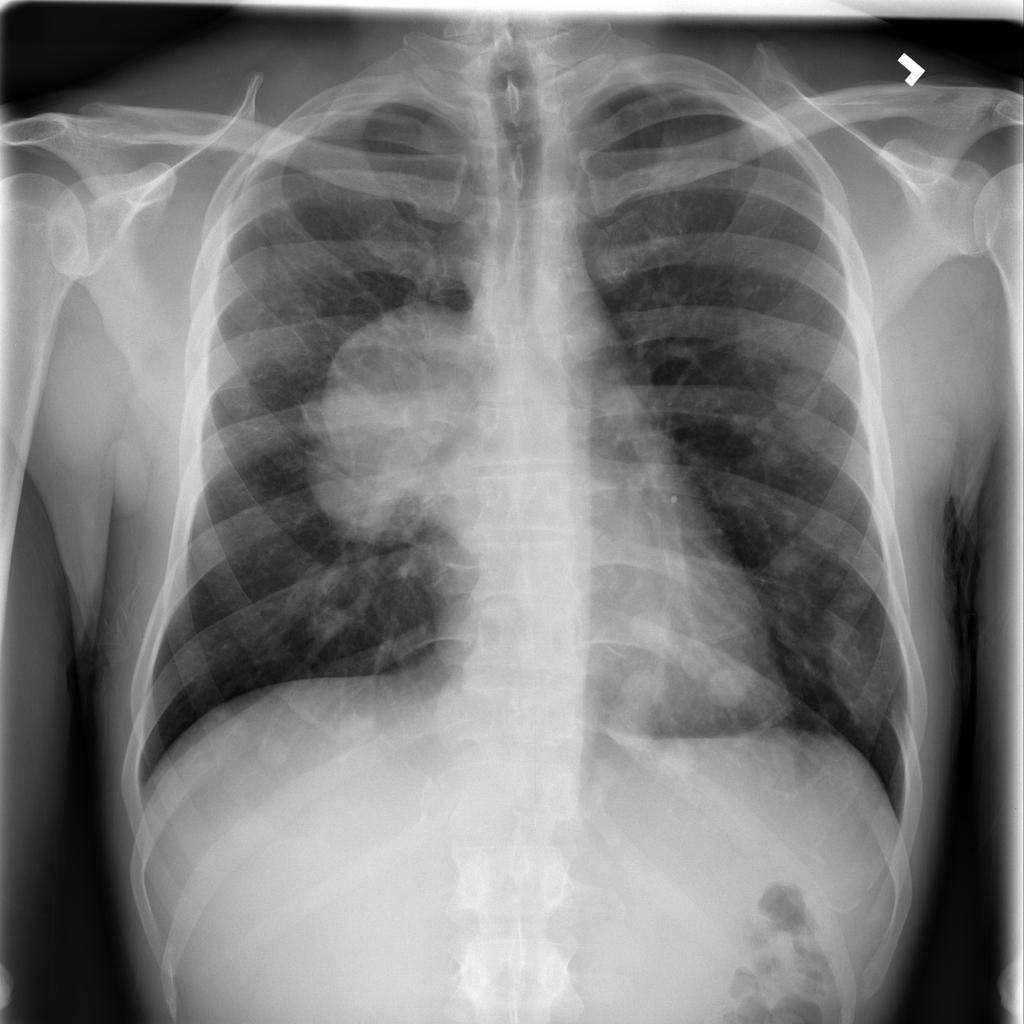nodule: (285, 300, 499, 558), (592, 649, 697, 764), (760, 355, 837, 430), (690, 650, 767, 716), (317, 694, 394, 759), (615, 592, 690, 658), (759, 526, 815, 587)
